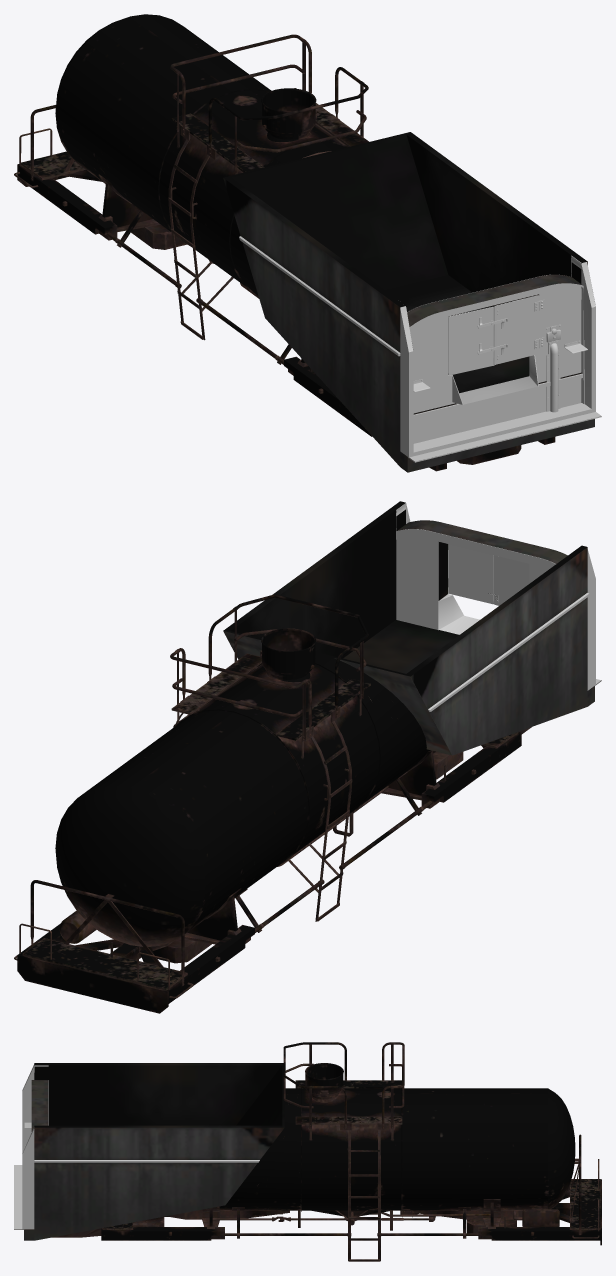
File: Auxiliary Tender1.fbx
3 views of the same model, one above another, from view 1: azimuth 30°, elevation 25°; view 2: azimuth 150°, elevation 25°; view 3: azimuth 270°, elevation 25° (orthographic). The views are drawn at different scales.
Visible parts, largest first — view 1: s282_tender, CarTankShort_LOD0, s282_tender_cab, CarTankShort_LOD0.001, s282_tender.002, CarTankShort_LOD0.007; view 2: CarTankShort_LOD0, s282_tender, s282_tender_cab, CarTankShort_LOD0.001, s282_tender.002, CarTankShort_LOD0.007; view 3: CarTankShort_LOD0, s282_tender, s282_tender_cab, CarTankShort_LOD0.001, s282_tender.002, CarTankShort_LOD0.007.
Part boxes in pixels (x1=…): s282_tender: x1=223, y1=132, x2=594, y2=472; CarTankShort_LOD0: x1=14, y1=14, x2=428, y2=436; s282_tender_cab: x1=239, y1=236, x2=601, y2=462; CarTankShort_LOD0.001: x1=261, y1=88, x2=316, y2=141; s282_tender.002: x1=407, y1=274, x2=582, y2=374; CarTankShort_LOD0.007: x1=131, y1=224, x2=186, y2=249; CarTankShort_LOD0: x1=14, y1=594, x2=521, y2=1013; s282_tender: x1=223, y1=501, x2=601, y2=755; s282_tender_cab: x1=396, y1=503, x2=601, y2=711; CarTankShort_LOD0.001: x1=261, y1=628, x2=315, y2=682; s282_tender.002: x1=397, y1=520, x2=567, y2=600; CarTankShort_LOD0.007: x1=153, y1=938, x2=211, y2=963; CarTankShort_LOD0: x1=101, y1=1042, x2=601, y2=1261; s282_tender: x1=14, y1=1063, x2=284, y2=1240; s282_tender_cab: x1=14, y1=1064, x2=259, y2=1229; CarTankShort_LOD0.001: x1=305, y1=1063, x2=343, y2=1102; s282_tender.002: x1=31, y1=1080, x2=48, y2=1131; CarTankShort_LOD0.007: x1=467, y1=1219, x2=516, y2=1233.
Size of the model in its own units: 305 by 383 by 1150.
